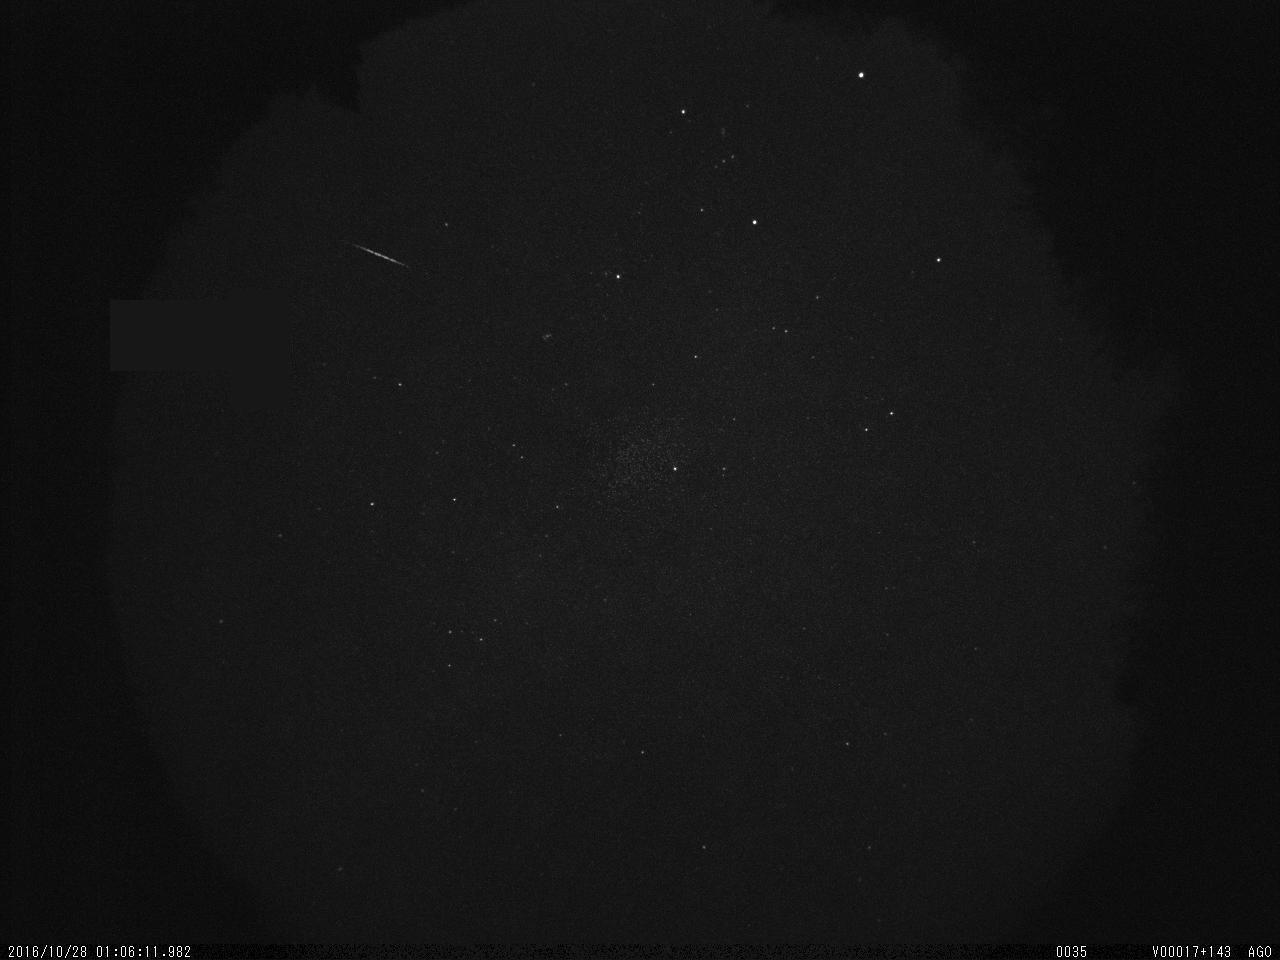meteor: (333, 226, 419, 278)
